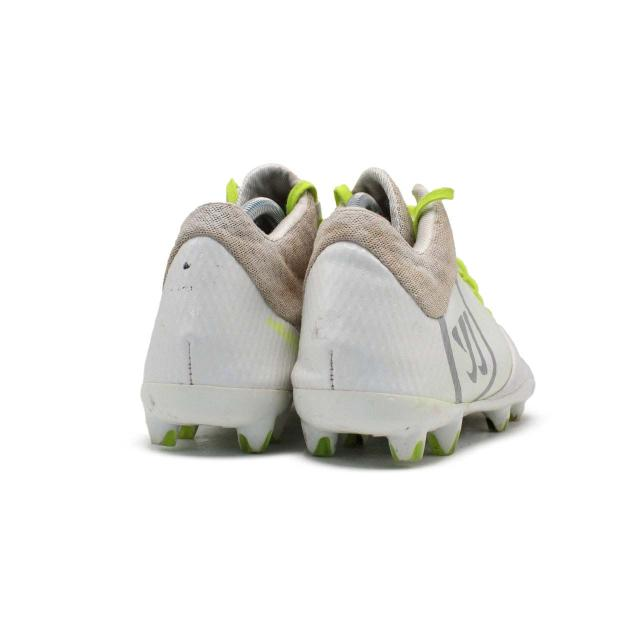heel: (300, 194, 445, 403), (141, 193, 286, 387)
midsole: (289, 377, 536, 461), (141, 381, 289, 449)
